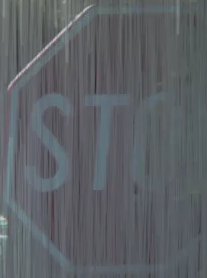Stop: (8, 9, 194, 240)
